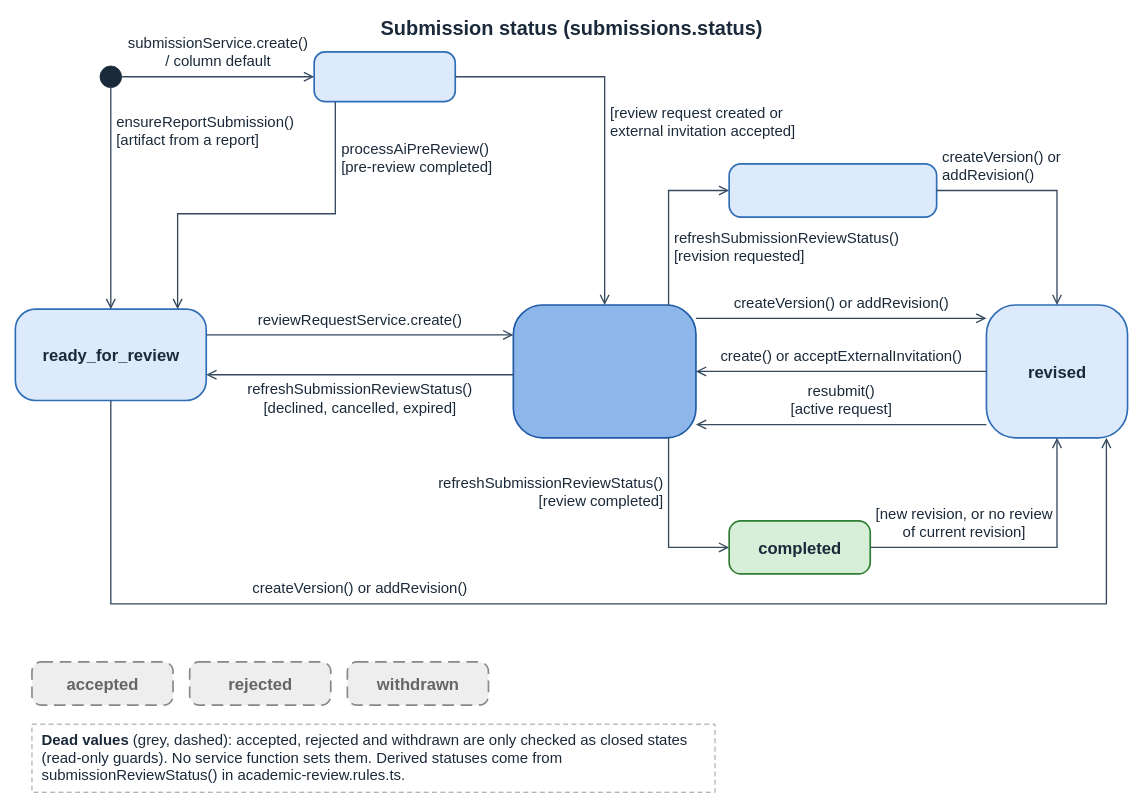
Some shapes in this 1142 by 807 pixel diagram are drawn without their labels. The shapes that lost their labels are listed below. From the top down, each one's centre as x and y in pixels, then its label:
At pixel 384 76: "submitted".
At pixel 832 190: "revision_requested".
At pixel 604 371: "under_review".
